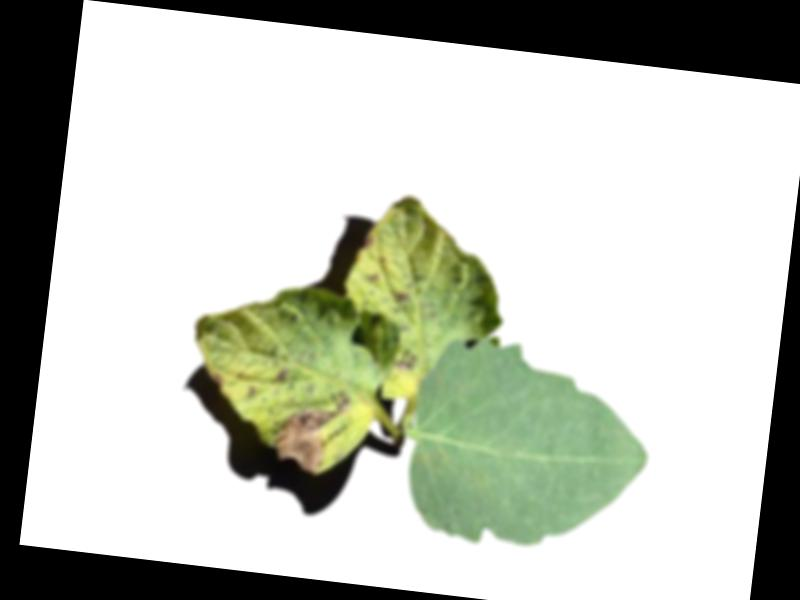Early_blight: (269, 381, 354, 477), (394, 346, 420, 375), (210, 369, 230, 388), (395, 288, 414, 301), (276, 363, 290, 380), (364, 231, 376, 248), (368, 271, 381, 285)
